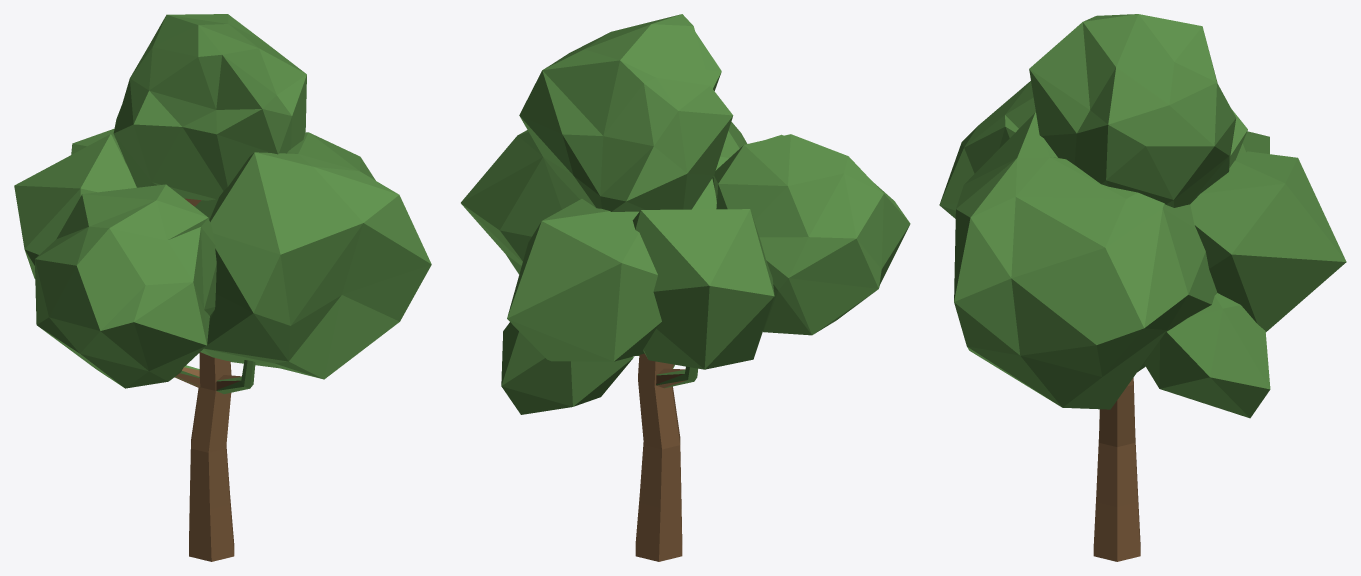
The model's file is tree3d-072.glb.
3 views of the same model, side by side, from view 1: azimuth 30°, elevation 25°; view 2: azimuth 150°, elevation 25°; view 3: azimuth 270°, elevation 25° (orthographic). The views are drawn at different scales.
Visible parts, largest first — view 1: tree3d-072; view 2: tree3d-072; view 3: tree3d-072.
Boxes of the visible parts, x1,y1,x2,y2 form: tree3d-072: [14, 14, 431, 561]; tree3d-072: [461, 14, 910, 561]; tree3d-072: [939, 14, 1346, 561].
Bounding box in the file's own units: 0.7535 × 1 × 0.6899.
